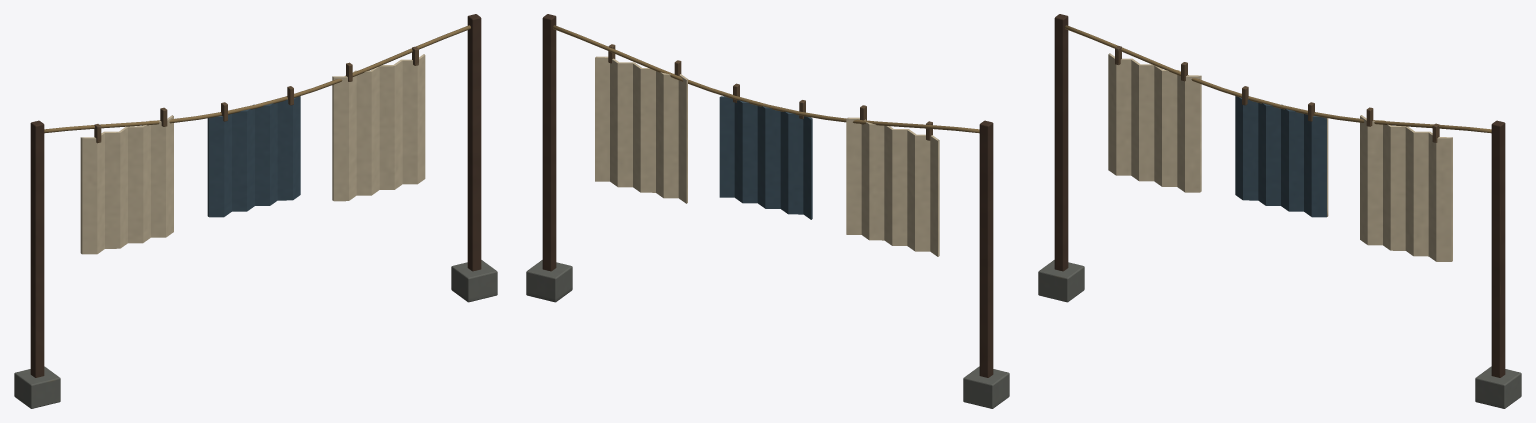
Rendered from Clothesline.fbx.
3 renders of one model, left to right at view 1: azimuth 30°, elevation 25°; view 2: azimuth 150°, elevation 25°; view 3: azimuth 330°, elevation 25°, orthographic.
Visible parts, largest first — view 1: Clothesline.001; view 2: Clothesline.001; view 3: Clothesline.001.
Boxes of the visible parts, x1,y1,x2,y2 form: Clothesline.001: [14, 14, 497, 408]; Clothesline.001: [526, 14, 1009, 408]; Clothesline.001: [1038, 14, 1521, 408].
Size of the model in its own units: 4.38 by 2.48 by 0.28.
